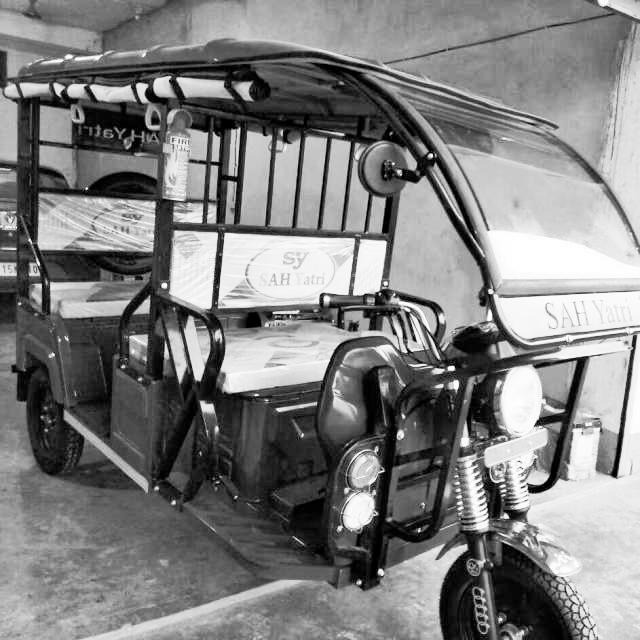Toto: (8, 40, 628, 640)
